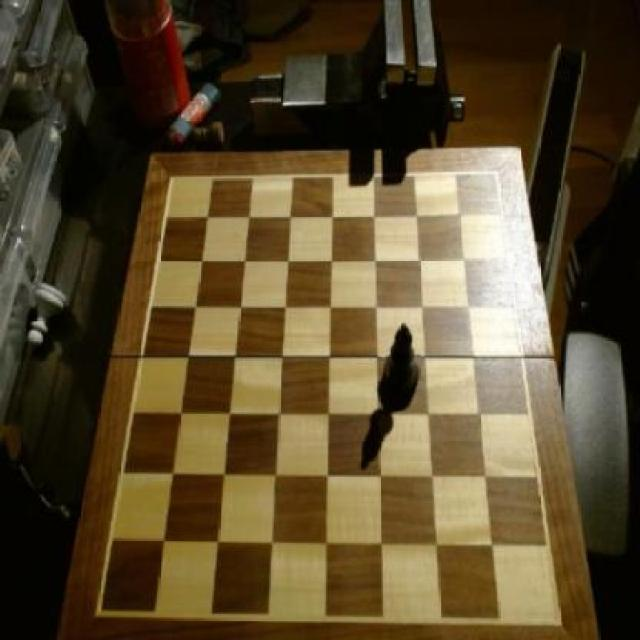bishop: (380, 322, 422, 412)
